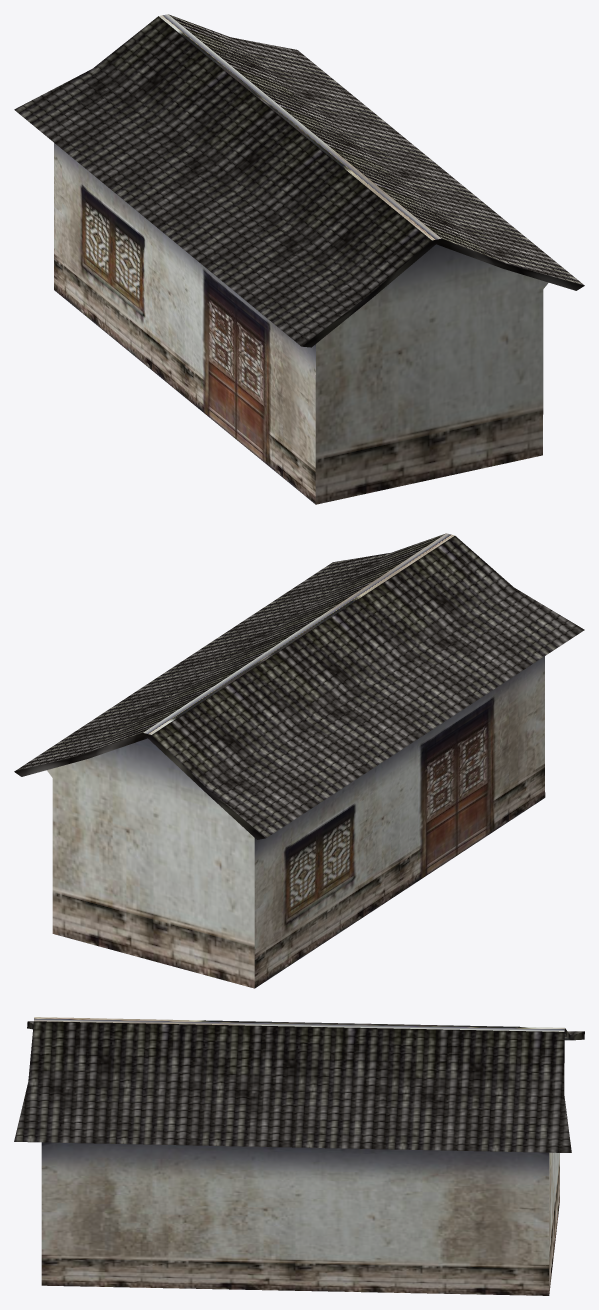
File: ian1594.obj
3 renders of one model, top to bottom at view 1: azimuth 30°, elevation 25°; view 2: azimuth 150°, elevation 25°; view 3: azimuth 270°, elevation 25°, orthographic. The views are drawn at different scales.
Parts seen in each view (by area): view 1: ian1594; view 2: ian1594; view 3: ian1594.
Part boxes in pixels (box(x1,y1,x2,y2)): ian1594: box(14, 14, 584, 504); ian1594: box(14, 533, 584, 988); ian1594: box(14, 1017, 584, 1295).
Size of the model in its own units: 127 by 99.21 by 235.
